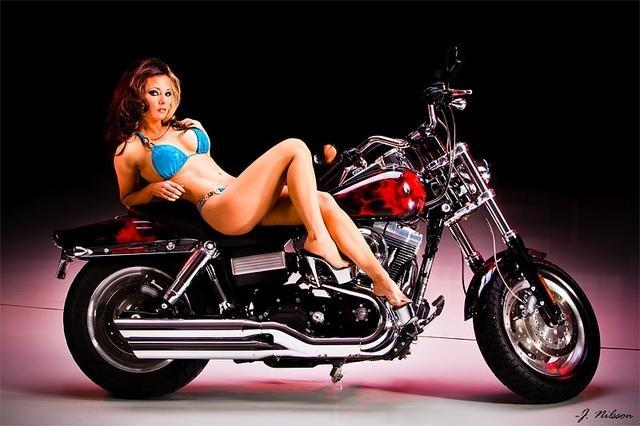motorcycle: (53, 48, 603, 400)
